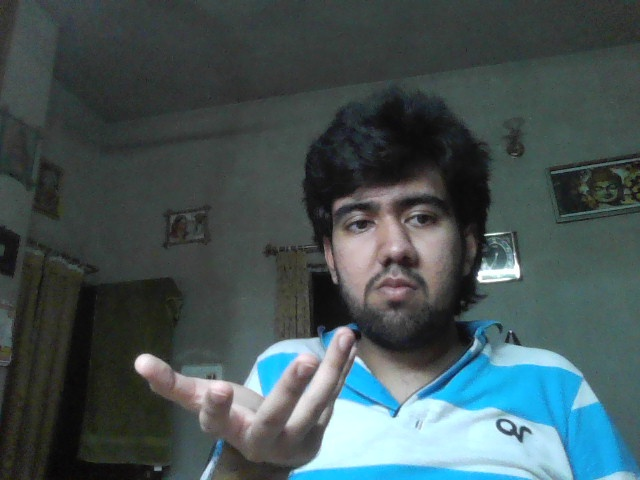What: (134, 325, 359, 467)
